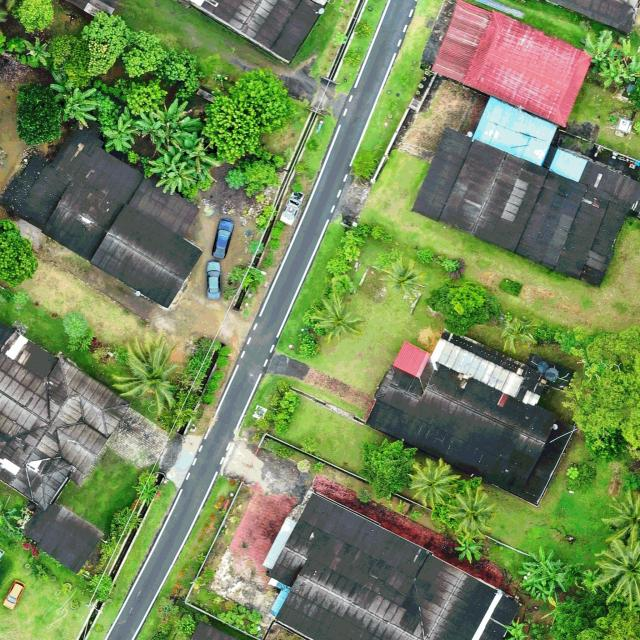Tree: (559, 322, 640, 466), (204, 67, 293, 167), (110, 336, 183, 415), (424, 281, 504, 337), (357, 437, 418, 501), (80, 10, 130, 75), (15, 81, 63, 147), (306, 290, 364, 344), (596, 533, 640, 601), (518, 546, 568, 602), (0, 218, 39, 288), (153, 98, 203, 151), (223, 152, 283, 196), (49, 32, 92, 92), (408, 457, 459, 507), (148, 146, 197, 196), (448, 488, 498, 536), (120, 29, 167, 78), (158, 47, 201, 98), (380, 254, 425, 298), (102, 106, 141, 153), (602, 491, 640, 538), (10, 0, 56, 34), (63, 87, 100, 128), (453, 533, 484, 563), (136, 111, 166, 142), (501, 618, 528, 640)
